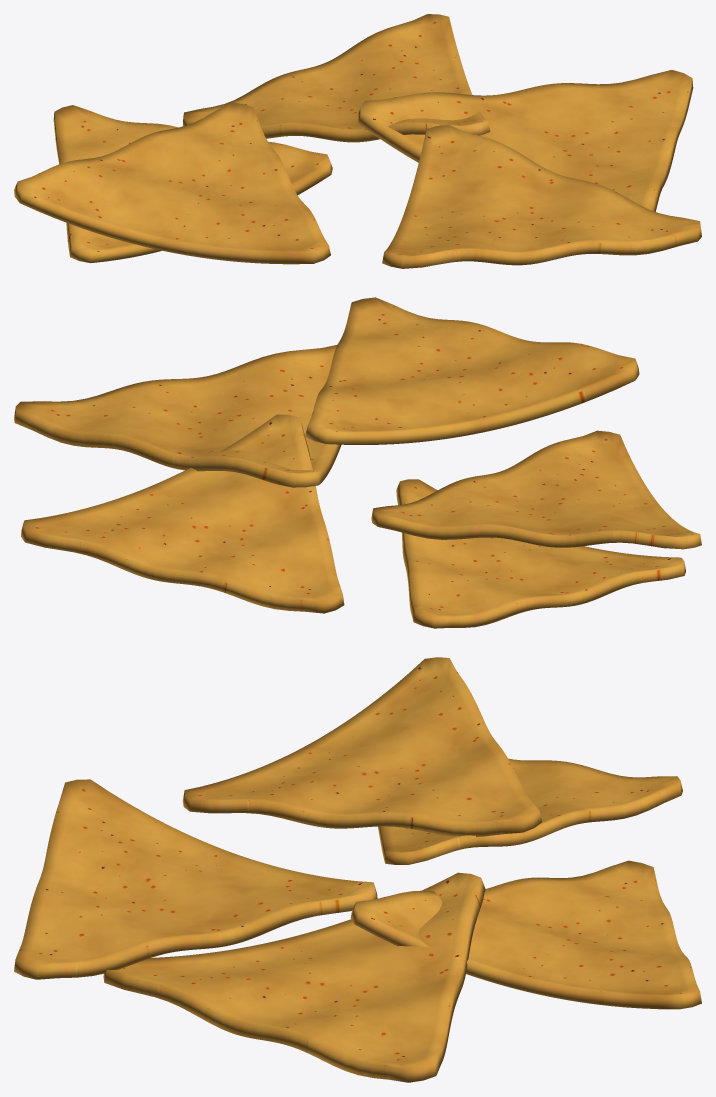
File: crunch_nachos.glb
3 views of the same model, one above another, from view 1: azimuth 30°, elevation 25°; view 2: azimuth 150°, elevation 25°; view 3: azimuth 270°, elevation 25° (orthographic). The views are drawn at different scales.
Visible parts, largest first — view 1: EX_Crunch_nachos_piece01, EX_Crunch_nachos_piece02, EX_Crunch_nachos_piece05, EX_Crunch_nachos_piece03, EX_Crunch_nachos_piece04; view 2: EX_Crunch_nachos_piece03, EX_Crunch_nachos_piece02, EX_Crunch_nachos_piece05, EX_Crunch_nachos_piece01, EX_Crunch_nachos_piece04; view 3: EX_Crunch_nachos_piece05, EX_Crunch_nachos_piece02, EX_Crunch_nachos_piece01, EX_Crunch_nachos_piece03, EX_Crunch_nachos_piece04.
Part boxes in pixels (bbox=[...]): EX_Crunch_nachos_piece01: bbox=[14, 102, 330, 264]; EX_Crunch_nachos_piece02: bbox=[382, 125, 701, 268]; EX_Crunch_nachos_piece05: bbox=[357, 70, 693, 211]; EX_Crunch_nachos_piece03: bbox=[183, 14, 490, 142]; EX_Crunch_nachos_piece04: bbox=[53, 105, 332, 263]; EX_Crunch_nachos_piece03: bbox=[21, 414, 344, 613]; EX_Crunch_nachos_piece02: bbox=[305, 297, 639, 444]; EX_Crunch_nachos_piece05: bbox=[14, 345, 341, 487]; EX_Crunch_nachos_piece01: bbox=[371, 430, 701, 549]; EX_Crunch_nachos_piece04: bbox=[396, 479, 685, 628]; EX_Crunch_nachos_piece05: bbox=[103, 872, 485, 1082]; EX_Crunch_nachos_piece02: bbox=[14, 779, 377, 979]; EX_Crunch_nachos_piece01: bbox=[182, 657, 541, 836]; EX_Crunch_nachos_piece03: bbox=[350, 860, 701, 1009]; EX_Crunch_nachos_piece04: bbox=[378, 758, 682, 864].
Bounding box in the file's own units: 0.0894 × 0.00948 × 0.0706.
5 materials, 5 textured.
